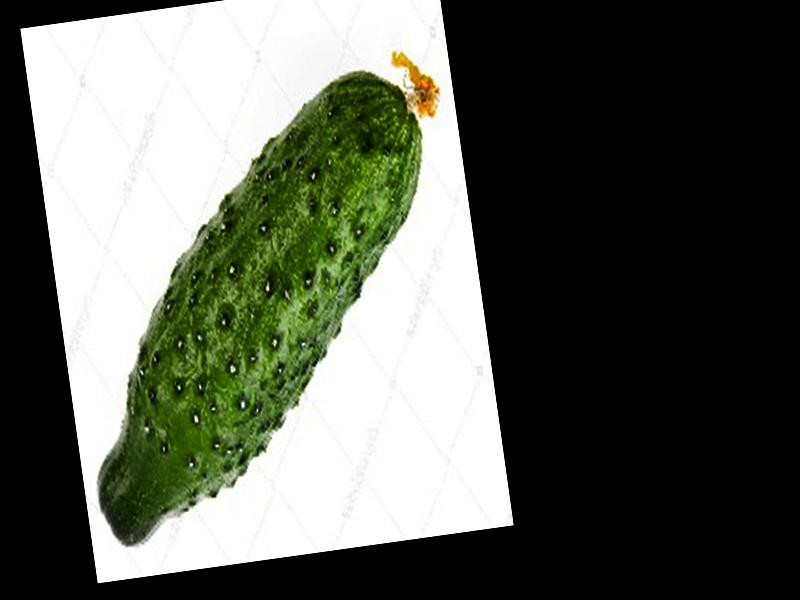Cucumber: (45, 48, 494, 549)
